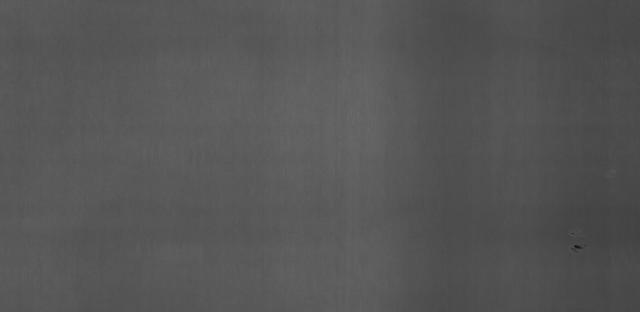inclusion: (568, 239, 589, 256)
